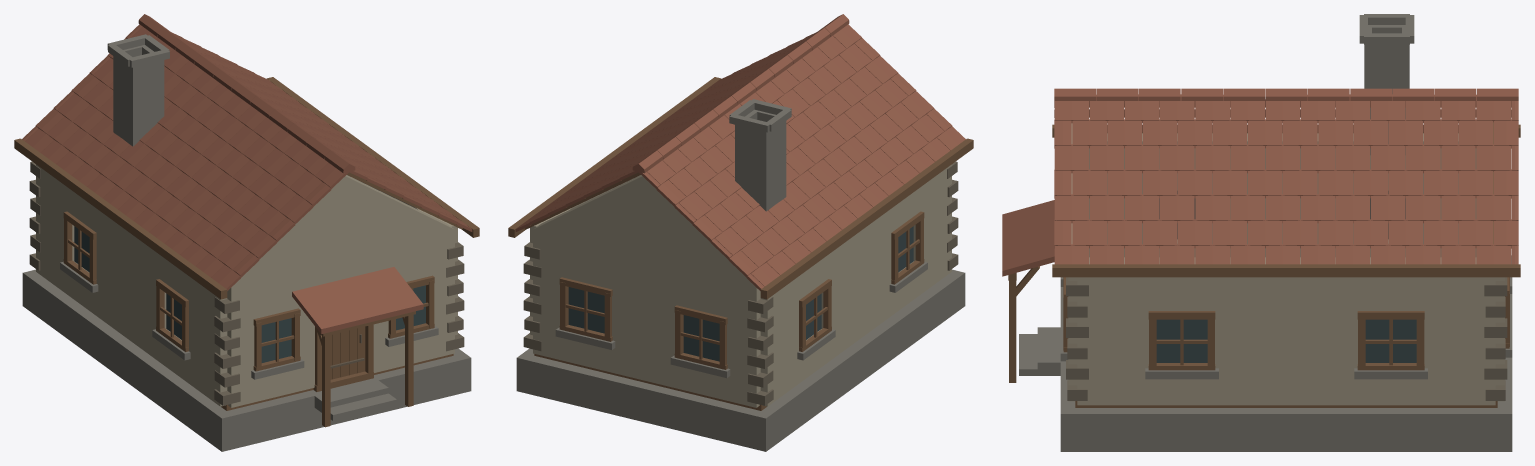
File: keeper_house.glb
3 views of the same model, side by side, from view 1: azimuth 30°, elevation 25°; view 2: azimuth 150°, elevation 25°; view 3: azimuth 270°, elevation 25° (orthographic). The views are drawn at different scales.
Visible parts, largest first — view 1: keeper_house_Keeper terracotta tile, keeper_house_Keeper lime plaster, keeper_house_Keeper sandstone foundations, keeper_house_Keeper weathered oak, keeper_house_Keeper warm recessed corner stone, keeper_house_Keeper window glass; view 2: keeper_house_Keeper lime plaster, keeper_house_Keeper terracotta tile, keeper_house_Keeper sandstone foundations, keeper_house_Keeper weathered oak, keeper_house_Keeper warm recessed corner stone, keeper_house_Keeper window glass; view 3: keeper_house_Keeper terracotta tile, keeper_house_Keeper lime plaster, keeper_house_Keeper sandstone foundations, keeper_house_Keeper weathered oak, keeper_house_Keeper window glass, keeper_house_Keeper warm recessed corner stone.
Boxes of the visible parts, left/top/right/bottom form: keeper_house_Keeper terracotta tile: left=22, top=14, right=472, bottom=333; keeper_house_Keeper lime plaster: left=36, top=164, right=457, bottom=407; keeper_house_Keeper sandstone foundations: left=22, top=34, right=471, bottom=451; keeper_house_Keeper weathered oak: left=14, top=77, right=479, bottom=427; keeper_house_Keeper warm recessed corner stone: left=29, top=161, right=464, bottom=405; keeper_house_Keeper window glass: left=74, top=226, right=425, bottom=362; keeper_house_Keeper lime plaster: left=530, top=164, right=951, bottom=407; keeper_house_Keeper terracotta tile: left=515, top=14, right=965, bottom=290; keeper_house_Keeper sandstone foundations: left=516, top=99, right=965, bottom=451; keeper_house_Keeper weathered oak: left=508, top=77, right=973, bottom=410; keeper_house_Keeper warm recessed corner stone: left=523, top=161, right=958, bottom=405; keeper_house_Keeper window glass: left=568, top=226, right=913, bottom=361; keeper_house_Keeper terracotta tile: left=1002, top=88, right=1518, bottom=276; keeper_house_Keeper lime plaster: left=1068, top=123, right=1504, bottom=405; keeper_house_Keeper sandstone foundations: left=1019, top=14, right=1512, bottom=451; keeper_house_Keeper weathered oak: left=1008, top=122, right=1520, bottom=407; keeper_house_Keeper window glass: left=1156, top=191, right=1416, bottom=362; keeper_house_Keeper warm recessed corner stone: left=1066, top=277, right=1507, bottom=400.
Size of the model in its own units: 8.1 by 8.5 by 12.4.
